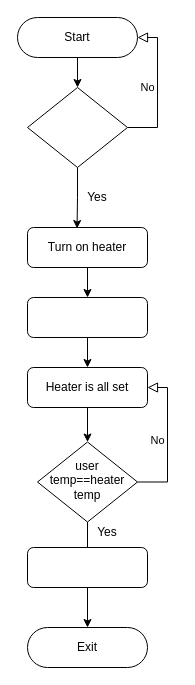
Some shapes in this 195 by 685 pixel diagram are drawn without their labels. The centre of each missing label's shape, as x and y in pixels:
LCD Display: point 87,567
Temperature is requested: point 87,317
User seated or not?: point 77,127
